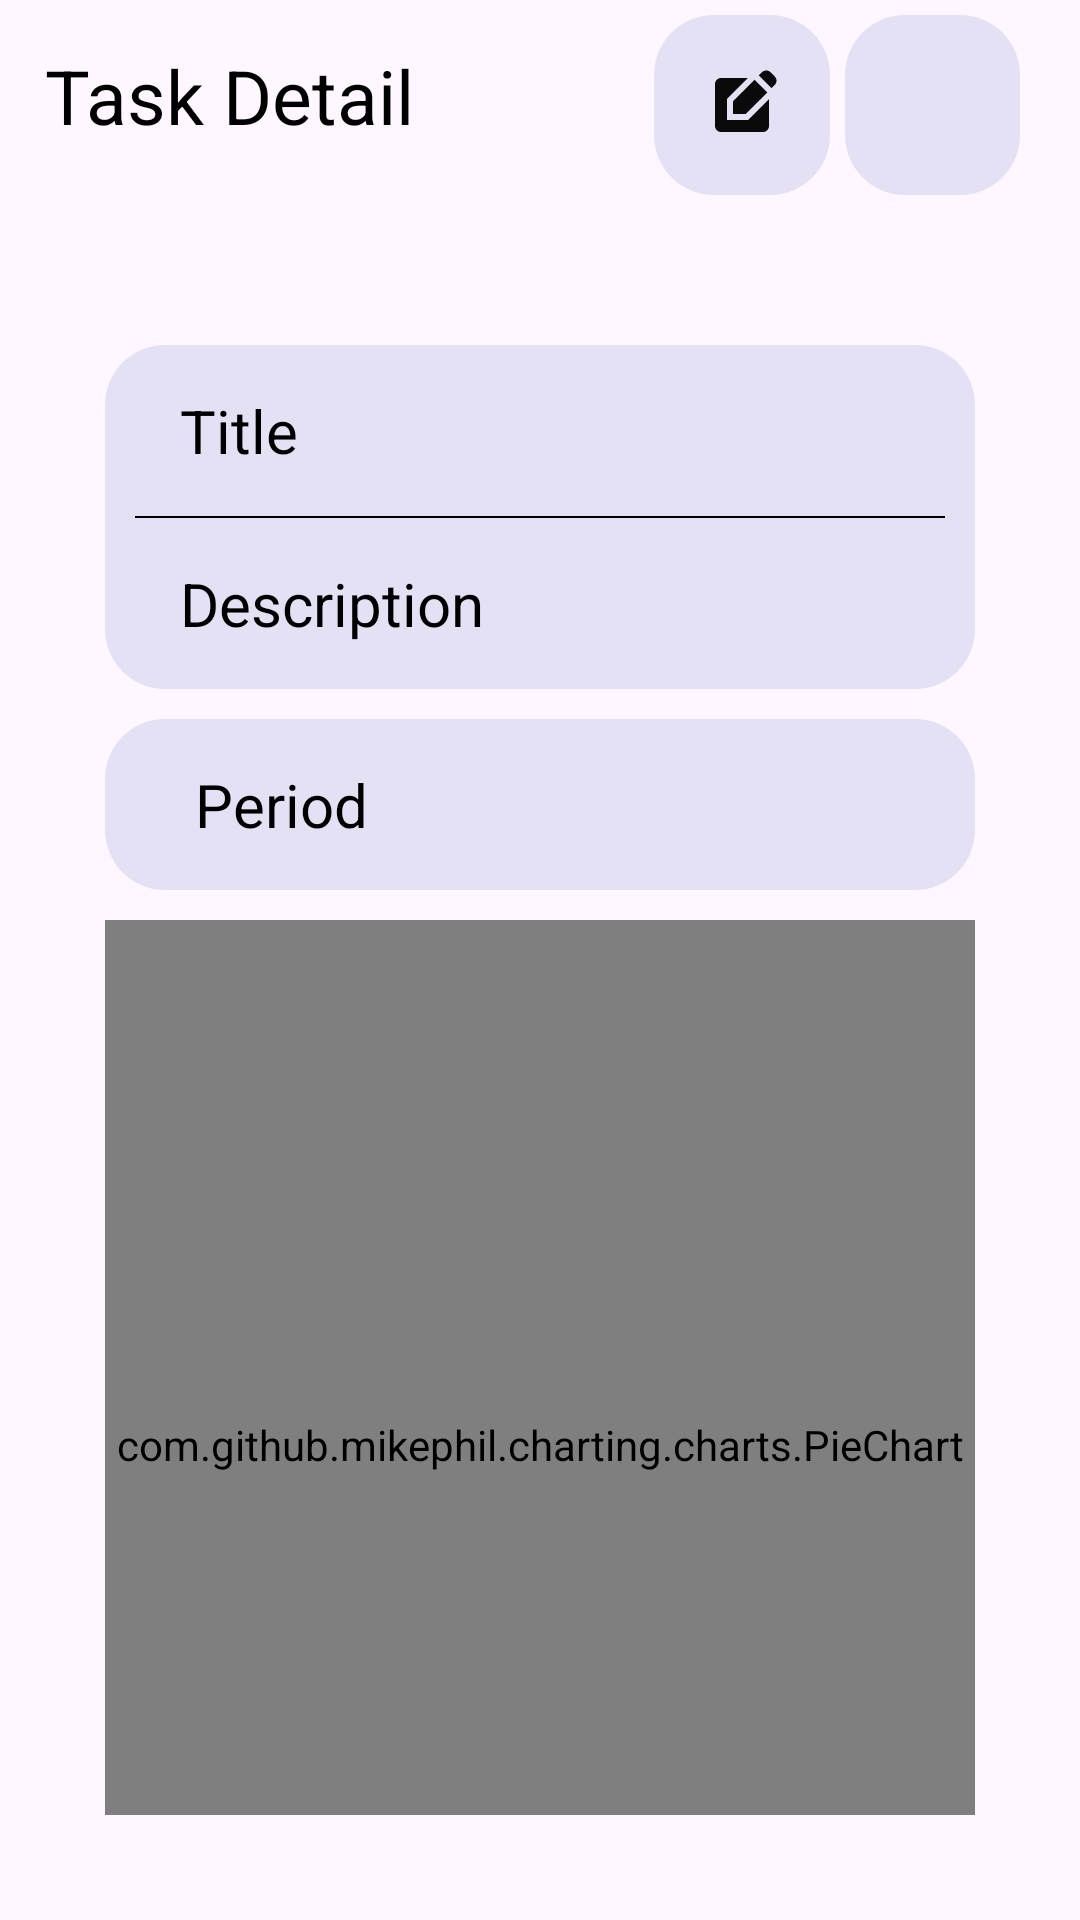

Point at icon controls on the screen. Image size 1080×1920, points as [x,y].
Edit: [742,105]
